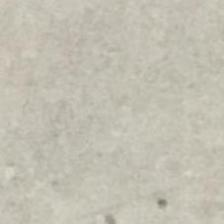Non_Crack: (25, 23, 224, 199)
